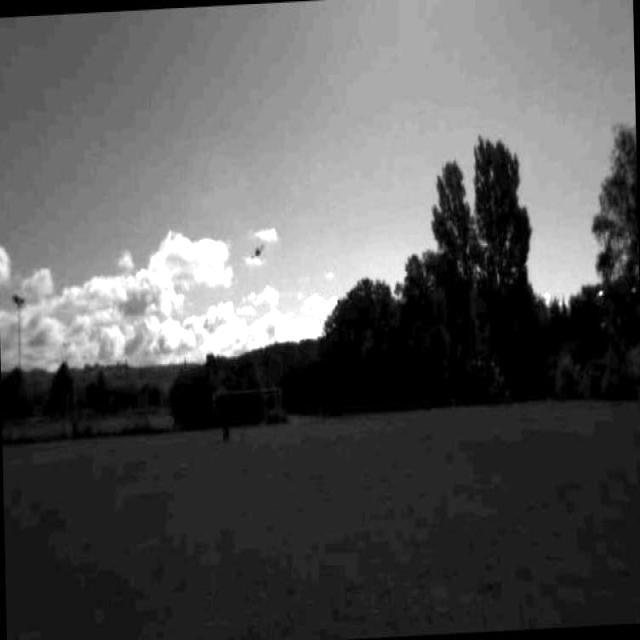drone: (250, 238, 268, 262)
